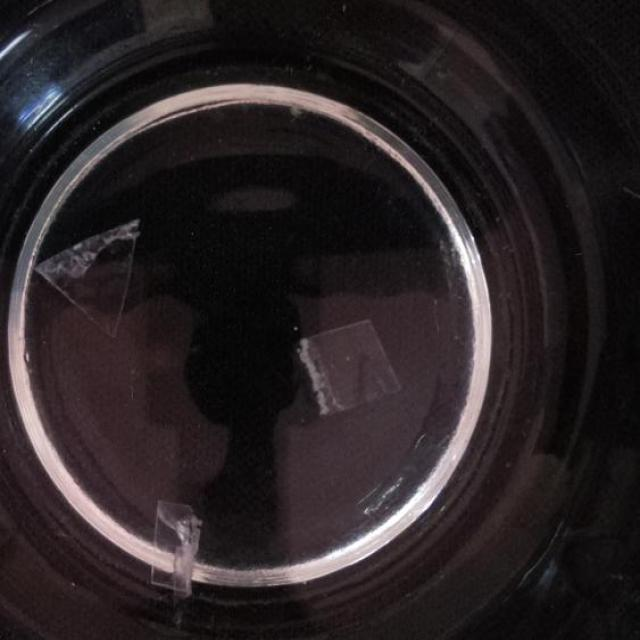fiber: (19, 190, 155, 355), (287, 314, 413, 417), (139, 495, 207, 597)
